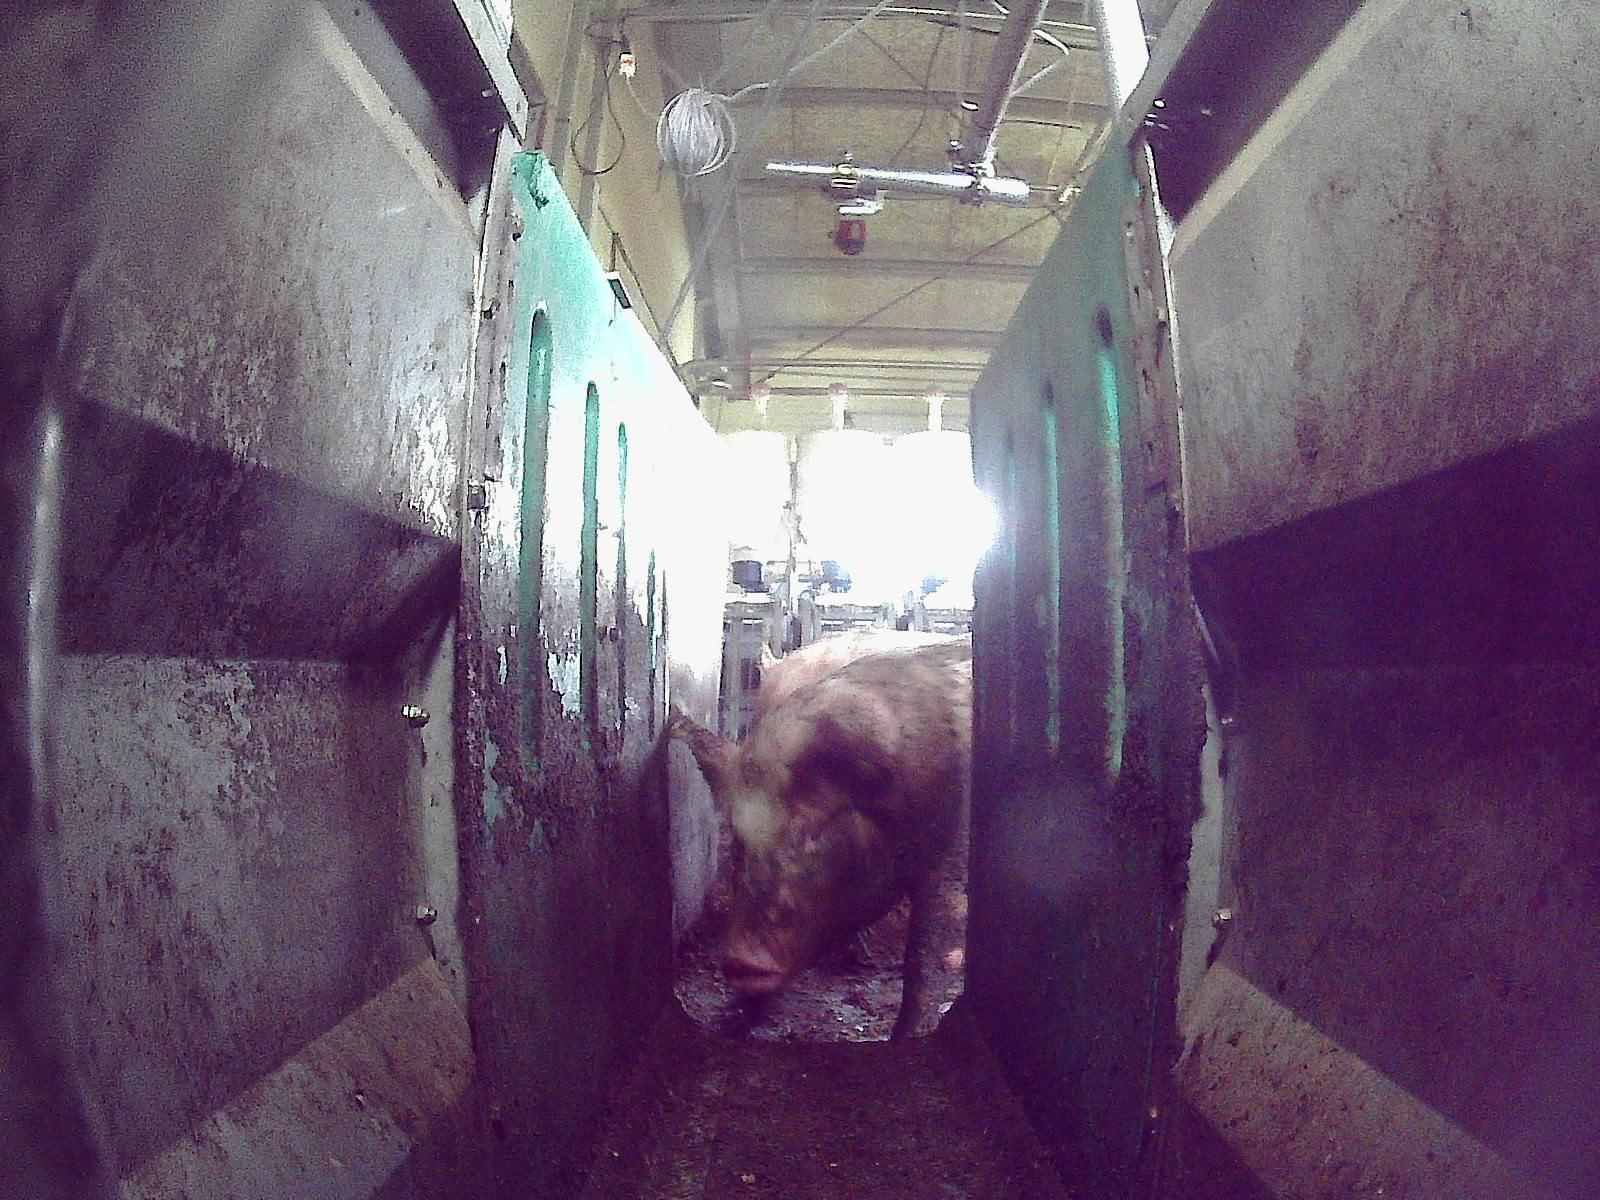Face: (691, 762, 904, 999)
